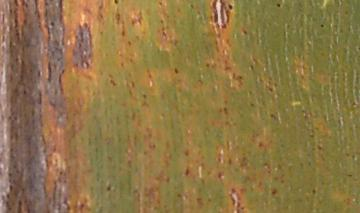tarspot: (239, 26, 248, 36), (16, 199, 22, 213), (226, 2, 234, 11), (273, 1, 281, 9), (48, 20, 56, 28), (7, 182, 14, 191), (105, 183, 112, 191), (187, 3, 195, 10), (12, 1, 19, 9), (21, 88, 28, 96), (310, 187, 316, 196), (318, 22, 325, 29), (172, 66, 178, 74), (112, 1, 121, 6), (157, 1, 164, 7), (5, 192, 11, 199)
